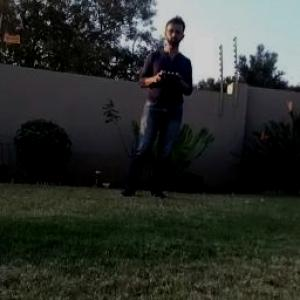follow: (116, 7, 198, 200)
